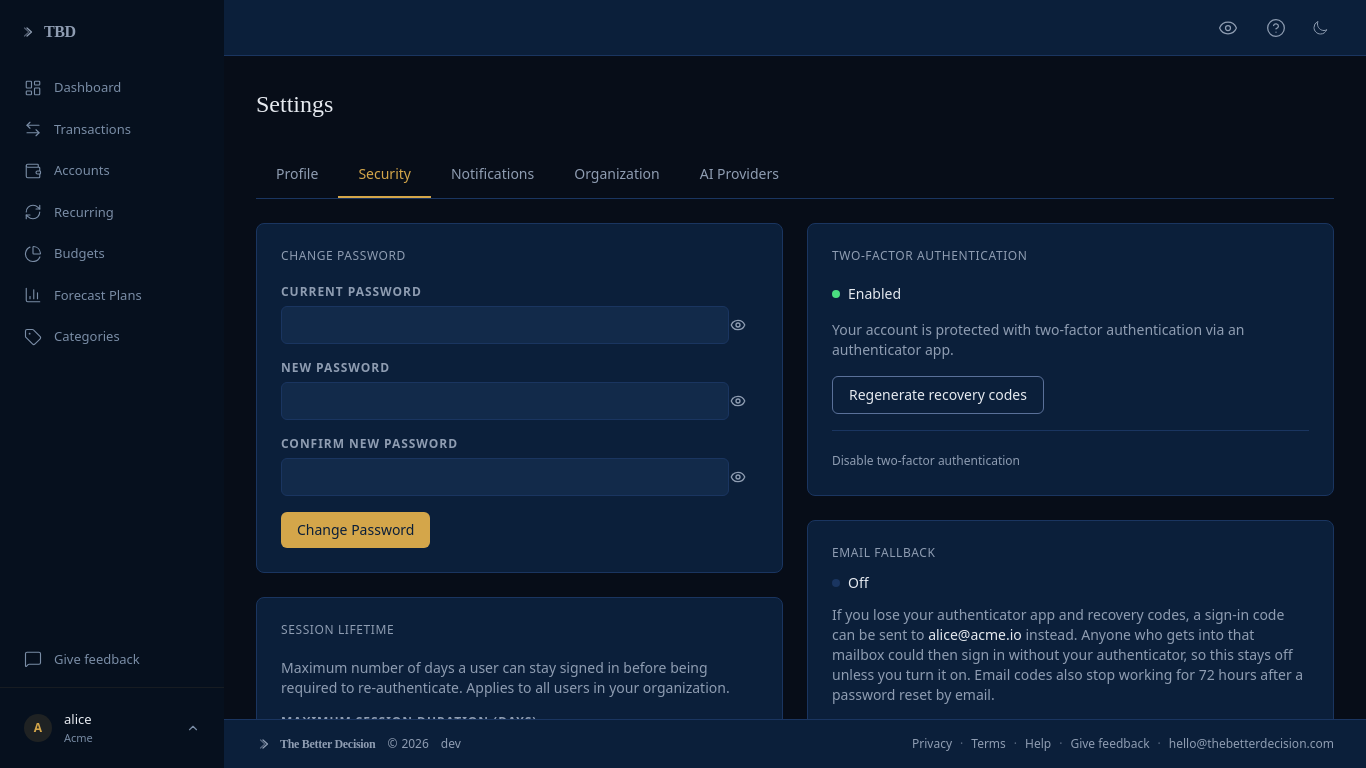
Scenario: Security page: a second factor to disable or regenerate (BE-32) › sends the code with the password when regenerating recovery codes
The image size is (1366, 768).
Click the button "Regenerate recovery codes". click: x=938, y=395
box: [832,376,1044,414]
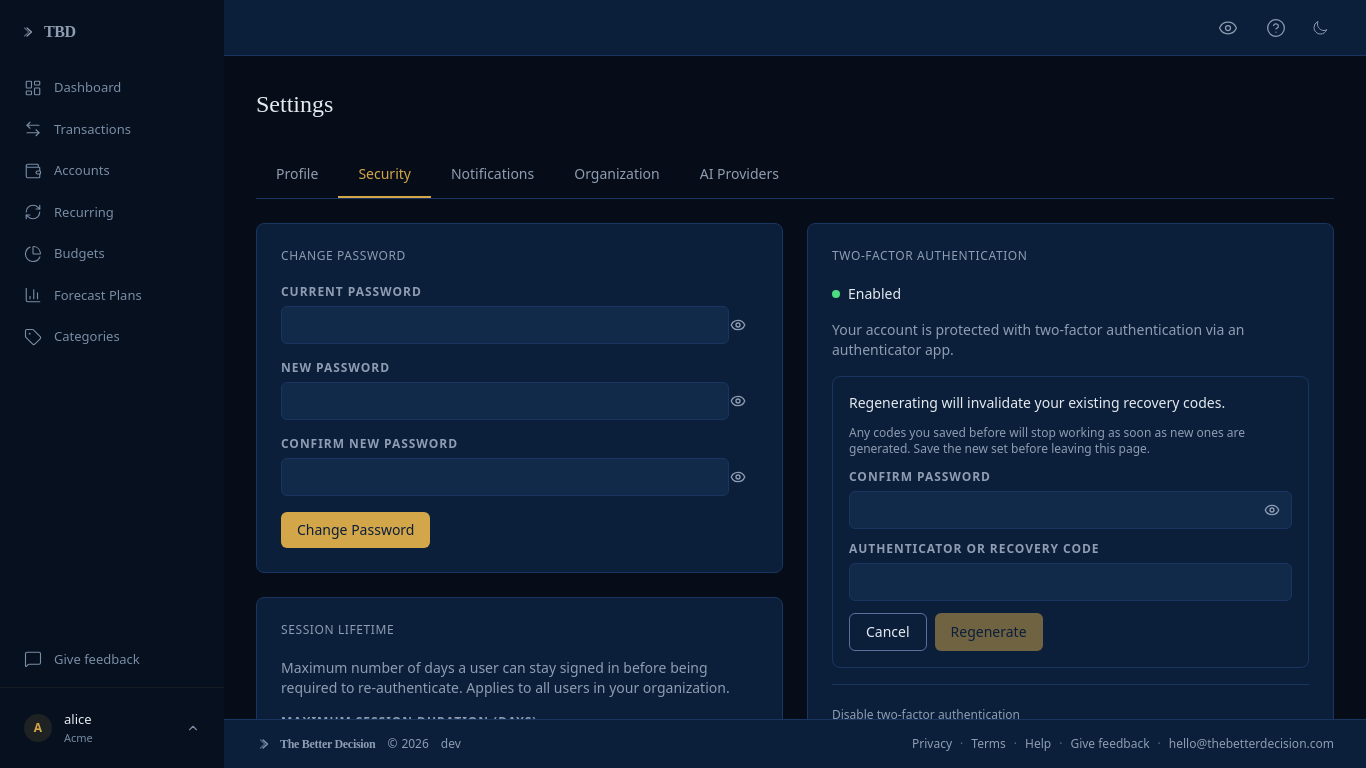
Type "hunter2" into the password field labelled "Confirm password". click: x=1070, y=510
box: [849,491,1292,529]
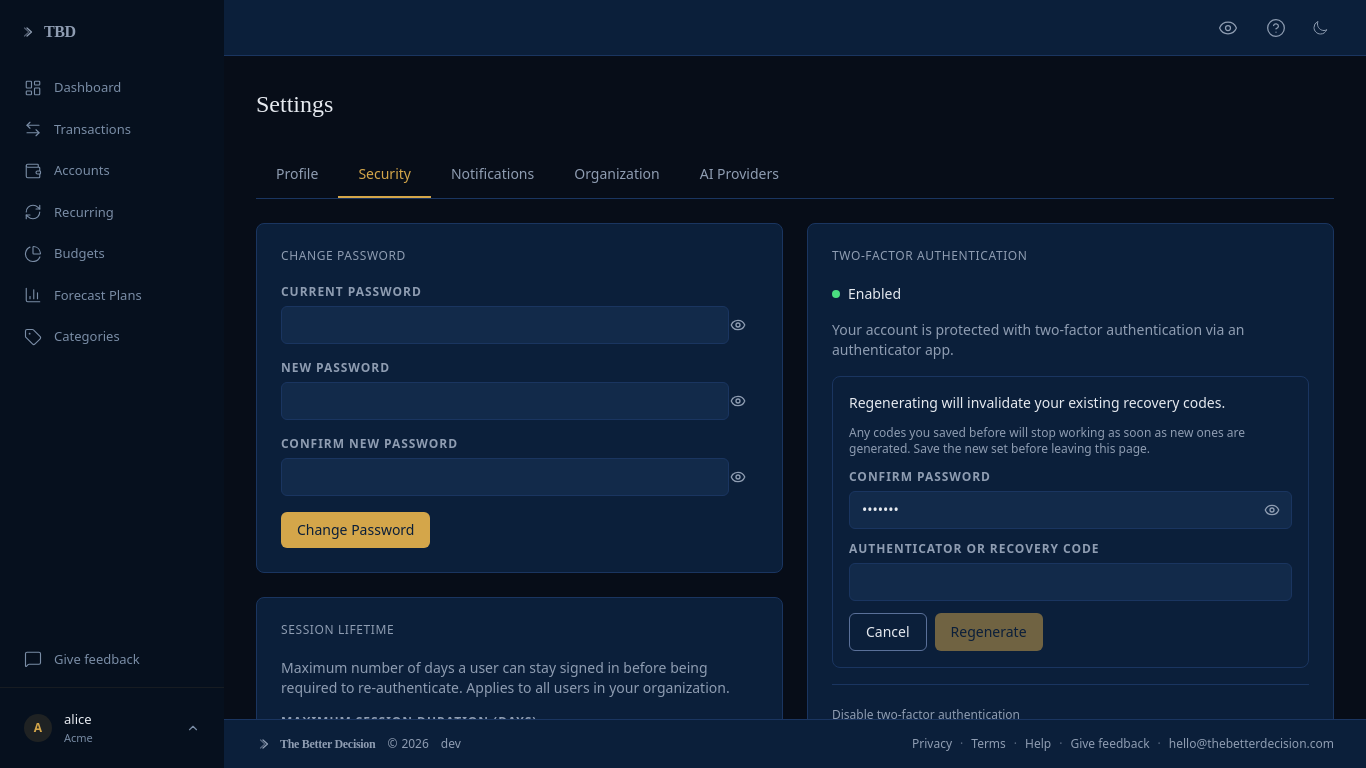
Type "a1b2-c3d4-e5f6-a7b8" into the field labelled "Authenticator or recovery code". click: x=1070, y=582
box: [849,563,1292,601]
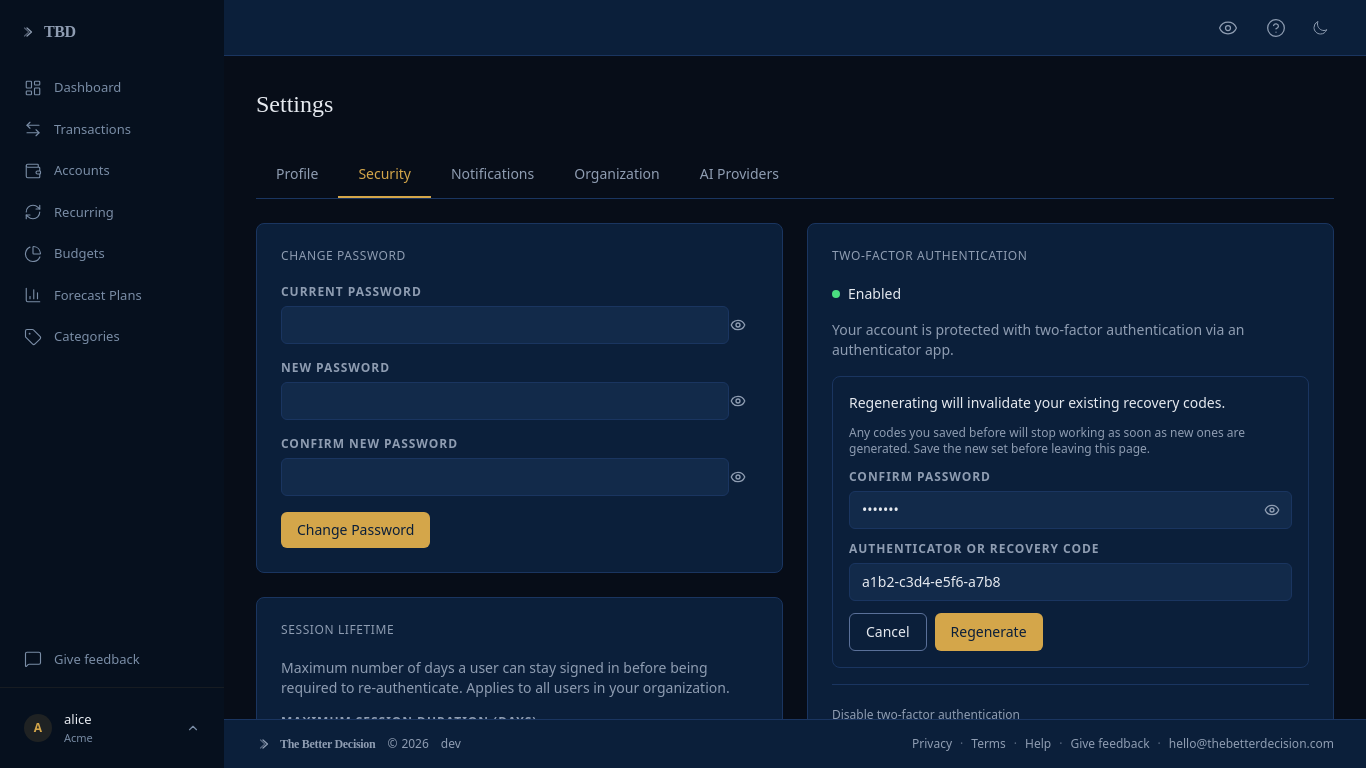
Click the button "Regenerate". click: x=989, y=632
box: [935,613,1043,651]
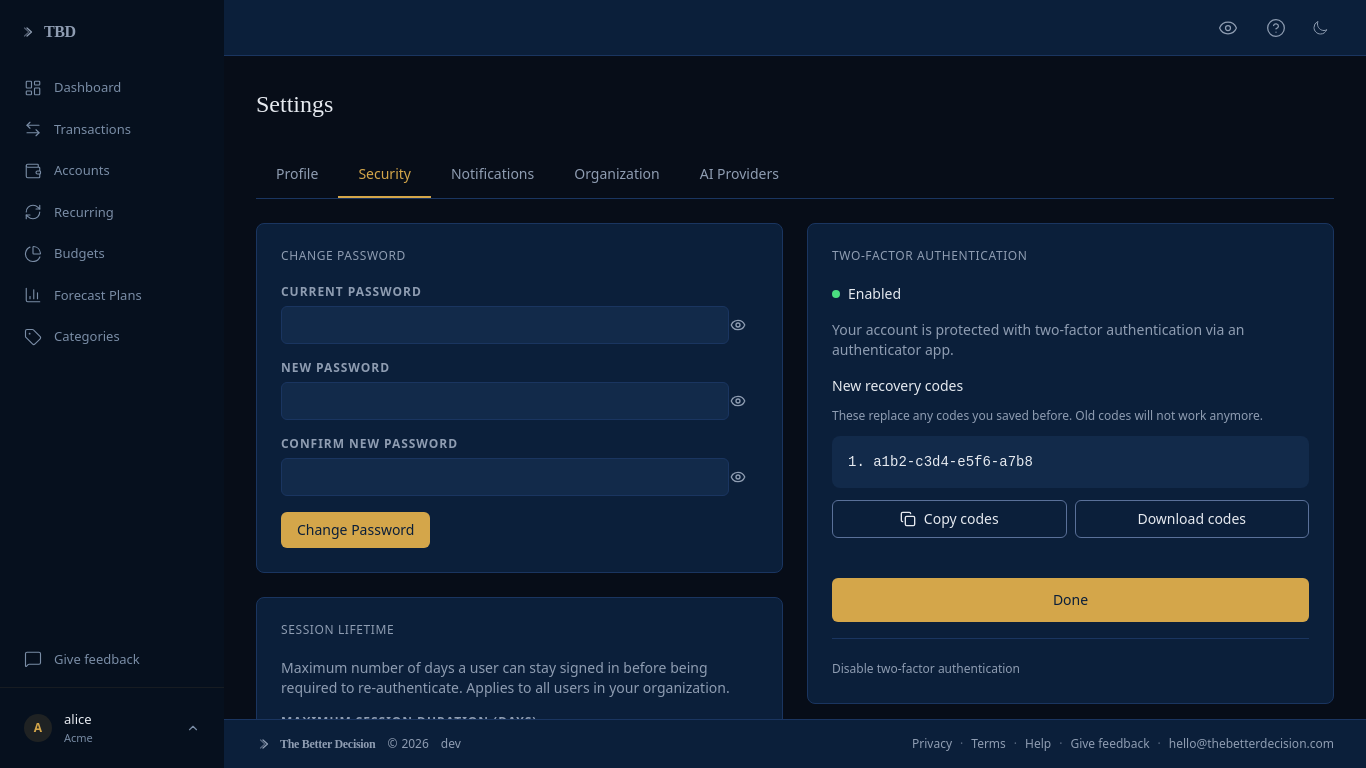
Now the text "New recovery codes" is shown, box [832,376,963,395]
